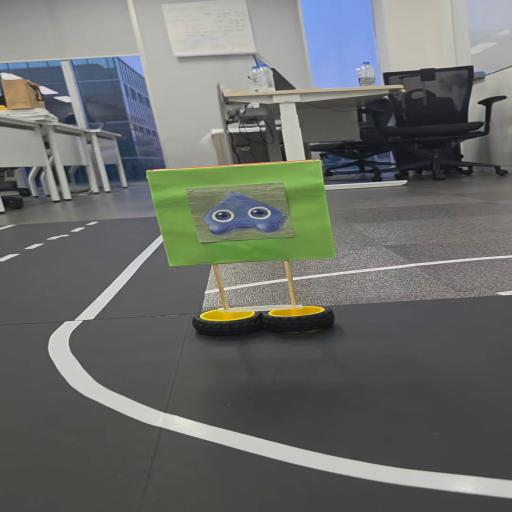Sign_B: (132, 155, 358, 344)
